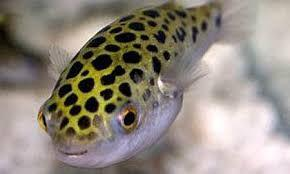Green Spotted Puffer: (37, 0, 230, 168)
